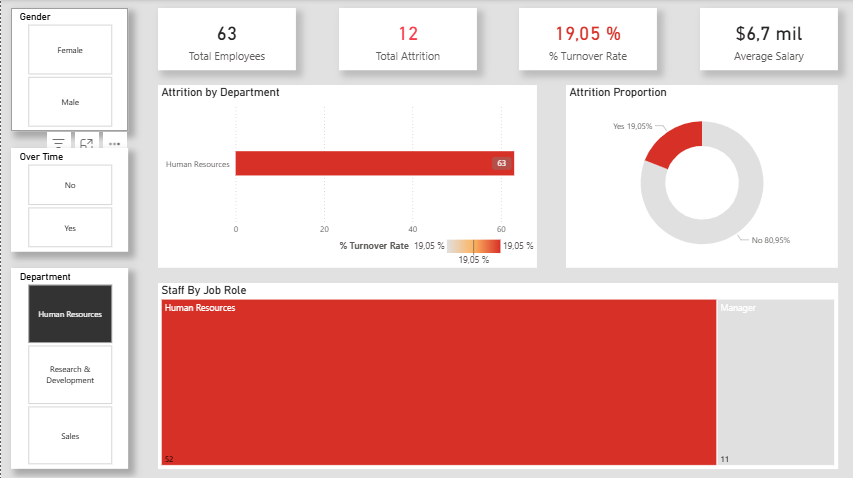

This screenshot's page, from the dashboard's own definition file:
{"tool":"powerbi","page":{"name":"Talent summary","canvas":[1280,720],"ordinal":0},"visuals":[{"type":"slicer","fields":{"Values":["Dim_JobDetails.Department"]},"box":[14.9,401.8,174.8,300.2],"z":0},{"type":"card","title":"Total Empoyees","fields":{"Values":["_Measures.Total Employees"]},"box":[234.5,13.4,205.8,92.6],"z":1000,"group":"g1"},{"type":"clusteredBarChart","title":"Attrition by Department","fields":{"Category":["Dim_JobDetails.Department"],"Y":["_Measures.Total Employees"]},"box":[233.8,128.5,566.1,273.4],"z":1000},{"type":"card","fields":{"Values":["_Measures.Total Attrition"]},"box":[504.5,13.4,205.8,92.6],"z":2000,"group":"g1"},{"type":"treemap","title":"Staff By Job Role","fields":{"Group":["Dim_JobDetails.Job_Role"],"Values":["_Measures.Total Employees"]},"box":[234.5,424.2,1015.8,277.8],"z":2000},{"type":"card","fields":{"Values":["_Measures.% Turnover Rate"]},"box":[774.5,13.4,205.8,92.6],"z":3000,"group":"g1"},{"type":"donutChart","title":"Attrition Proportion","fields":{"Category":["Fact_Attrition.Attrition"],"Y":["_Measures.Total Employees"]},"box":[844,128.5,406.3,273.4],"z":3000},{"type":"slicer","fields":{"Values":["Dim_Employee.Gender"]},"box":[14.9,13.4,174.8,183.7],"z":4000},{"type":"card","fields":{"Values":["_Measures.Average Salary"]},"box":[1044.5,13.4,205.8,92.6],"z":4000,"group":"g1"},{"type":"slicer","fields":{"Values":["Dim_Satisfaction.Over_Time"]},"box":[14.9,221.8,174.8,155.4],"z":5000},{"type":"group","id":"g1","title":"Grupo 1","box":[234.5,13.4,1015.8,92.6],"z":6000}]}

Visuals, with their boxes in screenshot pixels (x1, y1, x2, y2), scaled from the page's 1280x720 canvas onto the 853x478 screenshot:
slicer - Dim_JobDetails.Department: (x1=10, y1=267, x2=126, y2=466)
"Total Empoyees" card: (x1=156, y1=9, x2=293, y2=70)
"Attrition by Department" clusteredBarChart: (x1=156, y1=85, x2=533, y2=267)
card - _Measures.Total Attrition: (x1=336, y1=9, x2=473, y2=70)
"Staff By Job Role" treemap: (x1=156, y1=282, x2=833, y2=466)
card - _Measures.% Turnover Rate: (x1=516, y1=9, x2=653, y2=70)
"Attrition Proportion" donutChart: (x1=562, y1=85, x2=833, y2=267)
slicer - Dim_Employee.Gender: (x1=10, y1=9, x2=126, y2=131)
card - _Measures.Average Salary: (x1=696, y1=9, x2=833, y2=70)
slicer - Dim_Satisfaction.Over_Time: (x1=10, y1=147, x2=126, y2=250)
"Grupo 1" group: (x1=156, y1=9, x2=833, y2=70)
